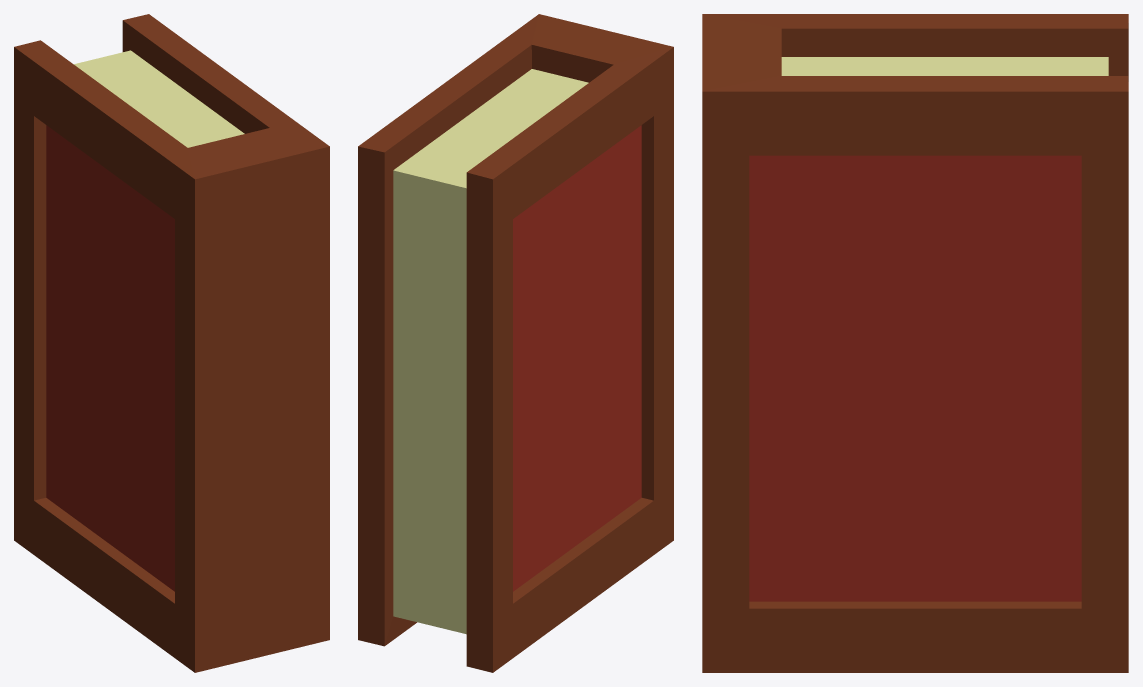
Rendered from Libro.fbx.
The picture shows the model from 3 angles, left to right: view 1: azimuth 30°, elevation 25°; view 2: azimuth 150°, elevation 25°; view 3: azimuth 270°, elevation 25°; orthographic projection. The views are drawn at different scales.
Visible parts, largest first — view 1: Plane.002; view 2: Plane.002; view 3: Plane.002.
Boxes of the visible parts, bbox=[...] form: Plane.002: bbox=[14, 14, 329, 672]; Plane.002: bbox=[358, 14, 673, 672]; Plane.002: bbox=[702, 14, 1128, 672].
Size of the model in its own units: 11.46 by 40.11 by 26.64.
